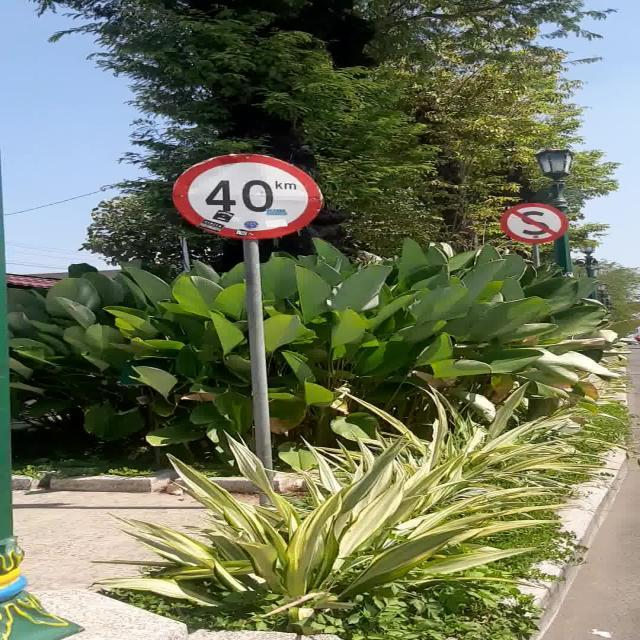Kecepatan Maks. 40 km: (170, 153, 324, 239)
